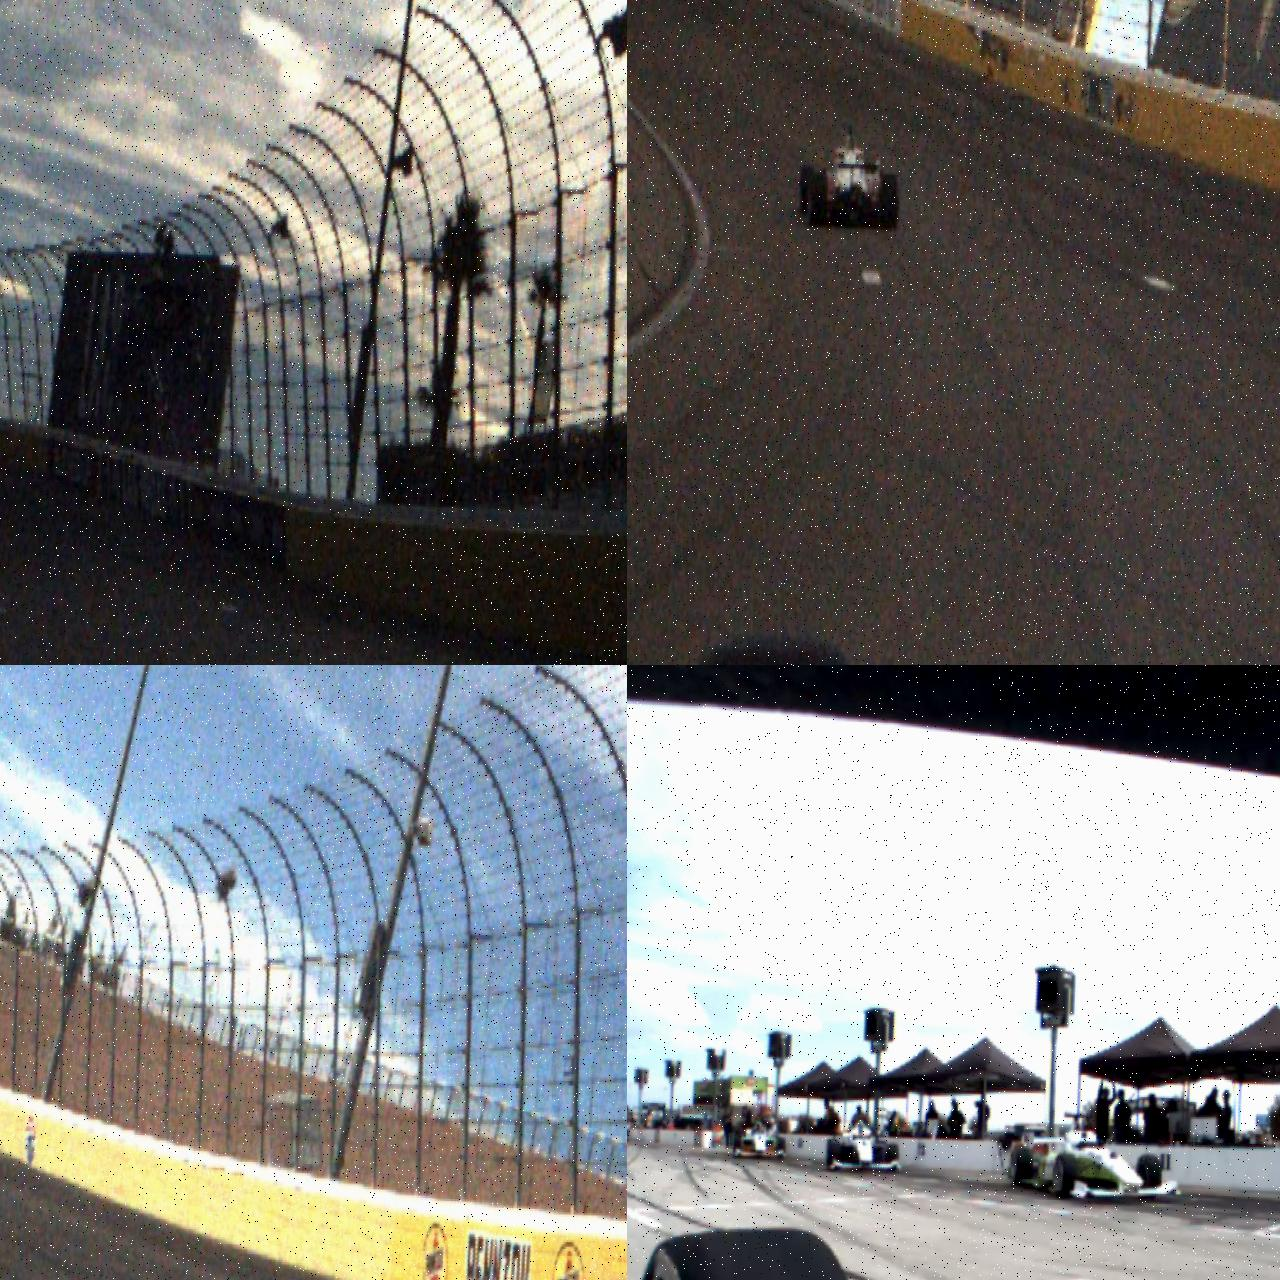AV: (1008, 1110, 1184, 1204), (796, 118, 902, 232), (824, 1115, 901, 1172), (733, 1120, 788, 1160)
Wheel: (629, 1222, 881, 1280), (1135, 1152, 1162, 1202), (880, 172, 900, 231), (808, 171, 828, 228), (1009, 1145, 1034, 1190), (1052, 1152, 1076, 1196), (797, 164, 814, 218), (884, 1142, 900, 1172), (776, 1136, 785, 1158)
